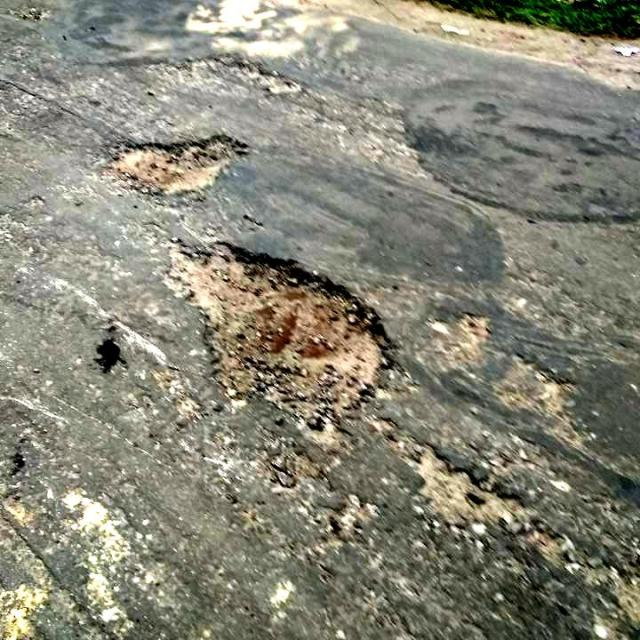pothole: (161, 236, 387, 427), (103, 130, 245, 194), (185, 46, 309, 113)
